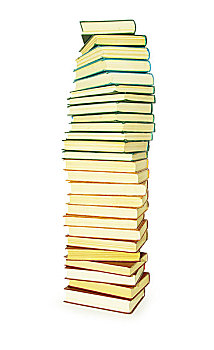book: (63, 287, 148, 315), (63, 70, 160, 87), (79, 13, 138, 34)
